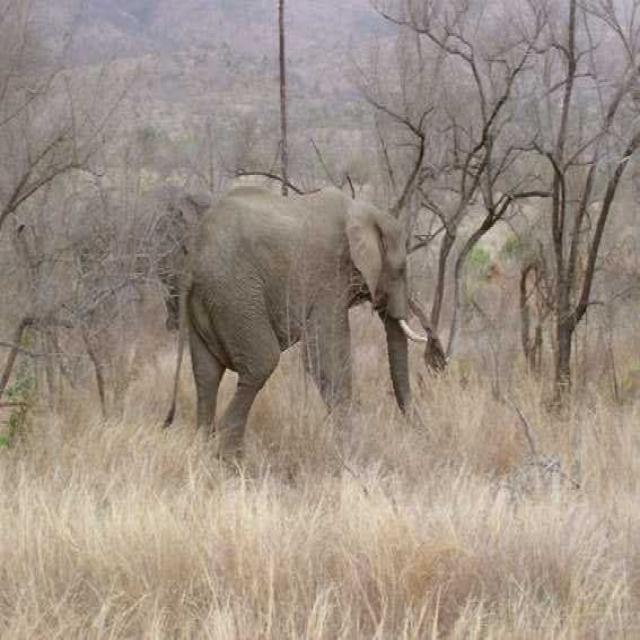Elephant: (174, 183, 445, 466)
